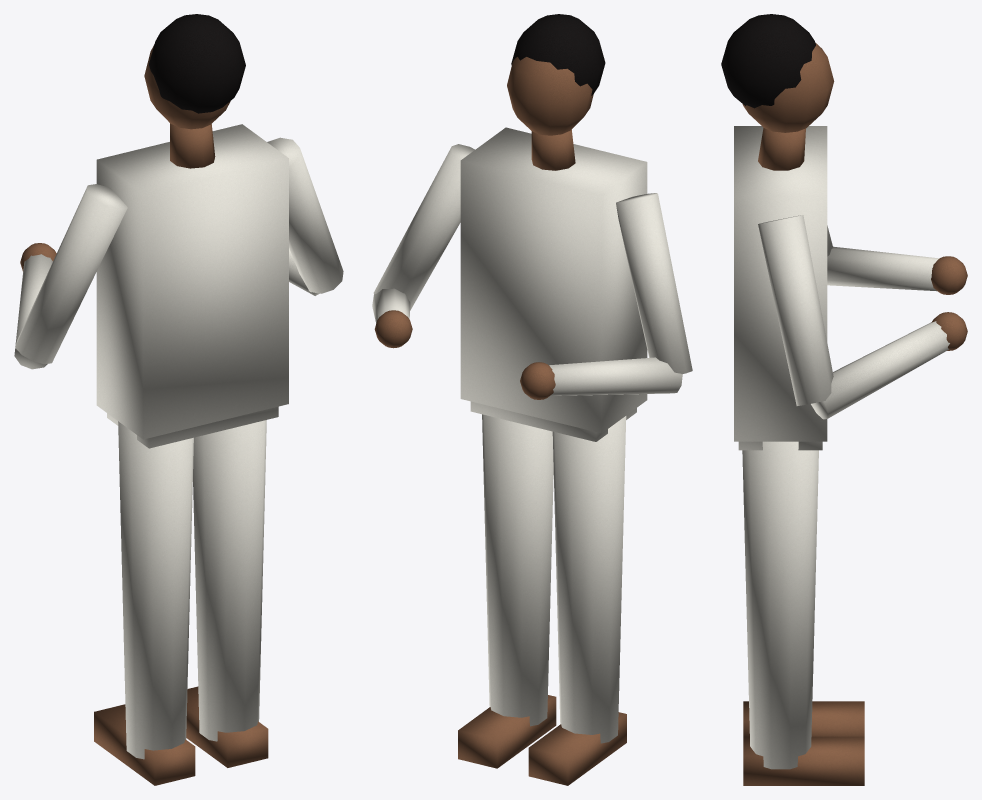
The model's file is musico_percusion.obj.
The picture shows the model from 3 angles, left to right: view 1: azimuth 30°, elevation 25°; view 2: azimuth 150°, elevation 25°; view 3: azimuth 270°, elevation 25°; orthographic projection. The views are drawn at different scales.
Visible parts, largest first — view 1: musico_percusion; view 2: musico_percusion; view 3: musico_percusion.
Boxes of the visible parts, x1,y1,x2,y2 form: musico_percusion: (14, 14, 343, 785); musico_percusion: (372, 14, 692, 785); musico_percusion: (721, 14, 967, 785).
Bounding box in the file's own units: 0.7961 × 1.76 × 0.53.
3 materials, 3 textured.
